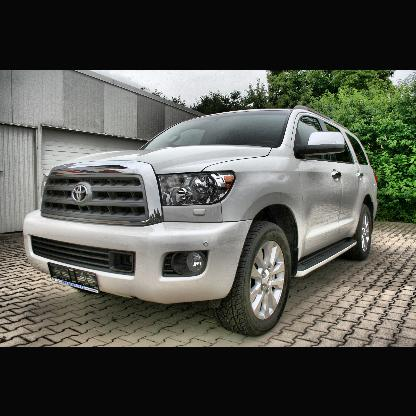Toyota Sequoia SUV 2012: (26, 105, 379, 334)
